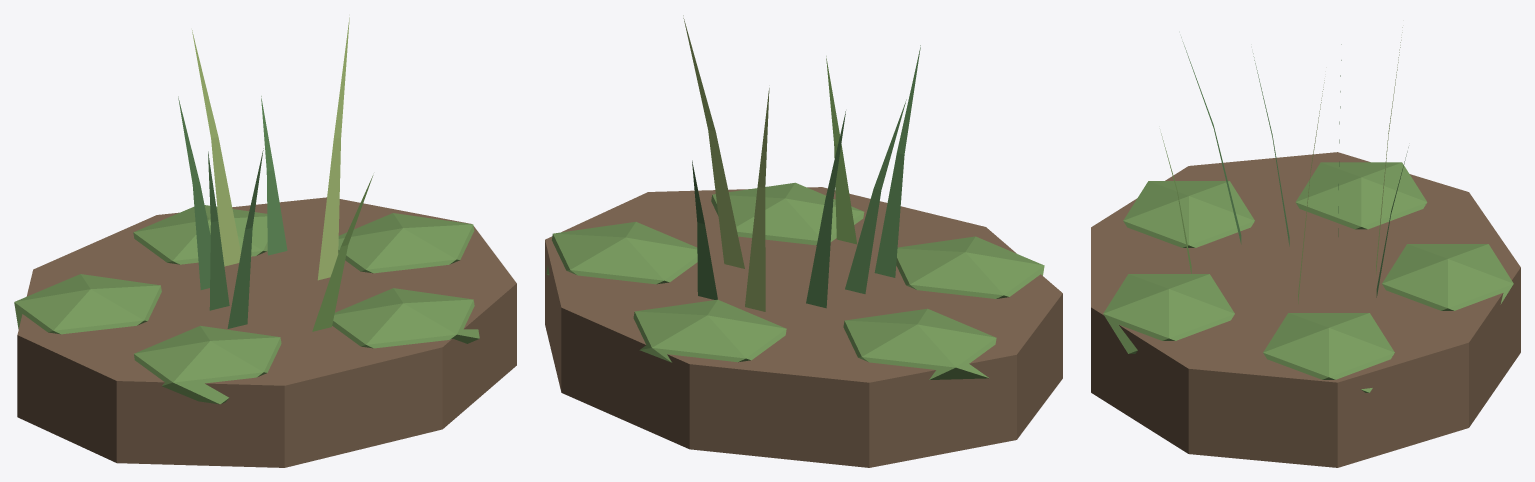
Rendered from mdl_env_meadow_grass_c.glb.
The picture shows the model from 3 angles, left to right: view 1: azimuth 30°, elevation 25°; view 2: azimuth 150°, elevation 25°; view 3: azimuth 270°, elevation 25°; orthographic projection. The views are drawn at different scales.
Visible parts, largest first — view 1: Loam base.002, Moss cushion.013, Moss cushion.014, Moss cushion.012, Moss cushion.010, Moss cushion.011, Grass blade.016, Grass blade.014, Grass blade.015, Grass blade.017, Grass blade.020, Grass blade.019 (+1 smaller); view 2: Loam base.002, Moss cushion.012, Moss cushion.011, Moss cushion.010, Moss cushion.013, Moss cushion.014, Grass blade.016, Grass blade.015, Grass blade.014, Grass blade.017, Grass blade.020, Grass blade.018 (+1 smaller); view 3: Loam base.002, Moss cushion.014, Moss cushion.012, Moss cushion.011, Moss cushion.010, Moss cushion.013.
Boxes of the visible parts, x1=… form: Loam base.002: x1=17, y1=197, x2=516, y2=467; Moss cushion.013: x1=134, y1=325, x2=281, y2=404; Moss cushion.014: x1=332, y1=288, x2=479, y2=348; Moss cushion.012: x1=14, y1=274, x2=161, y2=334; Moss cushion.010: x1=338, y1=213, x2=474, y2=273; Moss cushion.011: x1=133, y1=205, x2=267, y2=264; Grass blade.016: x1=317, y1=17, x2=349, y2=280; Grass blade.014: x1=192, y1=30, x2=240, y2=266; Grass blade.015: x1=227, y1=148, x2=263, y2=328; Grass blade.017: x1=178, y1=96, x2=210, y2=289; Grass blade.020: x1=208, y1=151, x2=229, y2=310; Grass blade.019: x1=261, y1=96, x2=287, y2=255; Loam base.002: x1=545, y1=187, x2=1062, y2=467; Moss cushion.012: x1=843, y1=308, x2=996, y2=379; Moss cushion.011: x1=633, y1=299, x2=786, y2=362; Moss cushion.010: x1=546, y1=222, x2=697, y2=284; Moss cushion.013: x1=896, y1=236, x2=1044, y2=298; Moss cushion.014: x1=711, y1=182, x2=864, y2=245; Grass blade.016: x1=683, y1=15, x2=744, y2=268; Grass blade.015: x1=874, y1=45, x2=920, y2=277; Grass blade.014: x1=745, y1=88, x2=769, y2=311; Grass blade.017: x1=806, y1=111, x2=845, y2=308; Grass blade.020: x1=845, y1=99, x2=906, y2=293; Grass blade.018: x1=826, y1=56, x2=857, y2=244; Loam base.002: x1=1091, y1=152, x2=1520, y2=467; Moss cushion.014: x1=1103, y1=274, x2=1234, y2=353; Moss cushion.012: x1=1295, y1=162, x2=1427, y2=229; Moss cushion.011: x1=1382, y1=244, x2=1513, y2=310; Moss cushion.010: x1=1263, y1=313, x2=1394, y2=392; Moss cushion.013: x1=1123, y1=181, x2=1254, y2=247.
Size of the model in its own units: 1.97 by 1.35 by 1.55.
